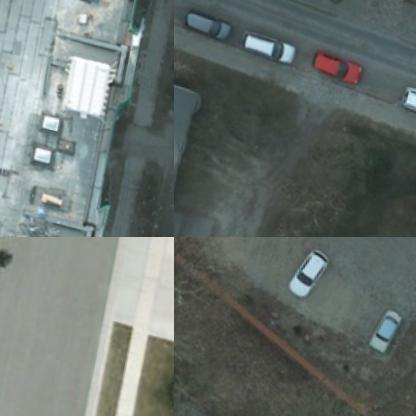car: (290, 240, 331, 298), (365, 302, 403, 352), (314, 47, 365, 82), (246, 27, 298, 59), (184, 6, 233, 38), (404, 77, 415, 113)
